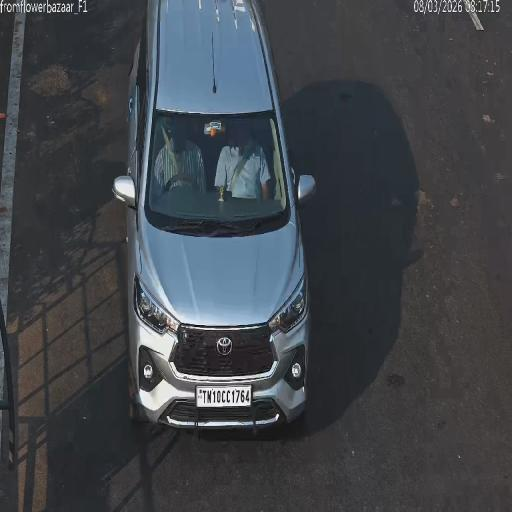person_with_seatbelt: (156, 126, 192, 193), (227, 142, 260, 196)
